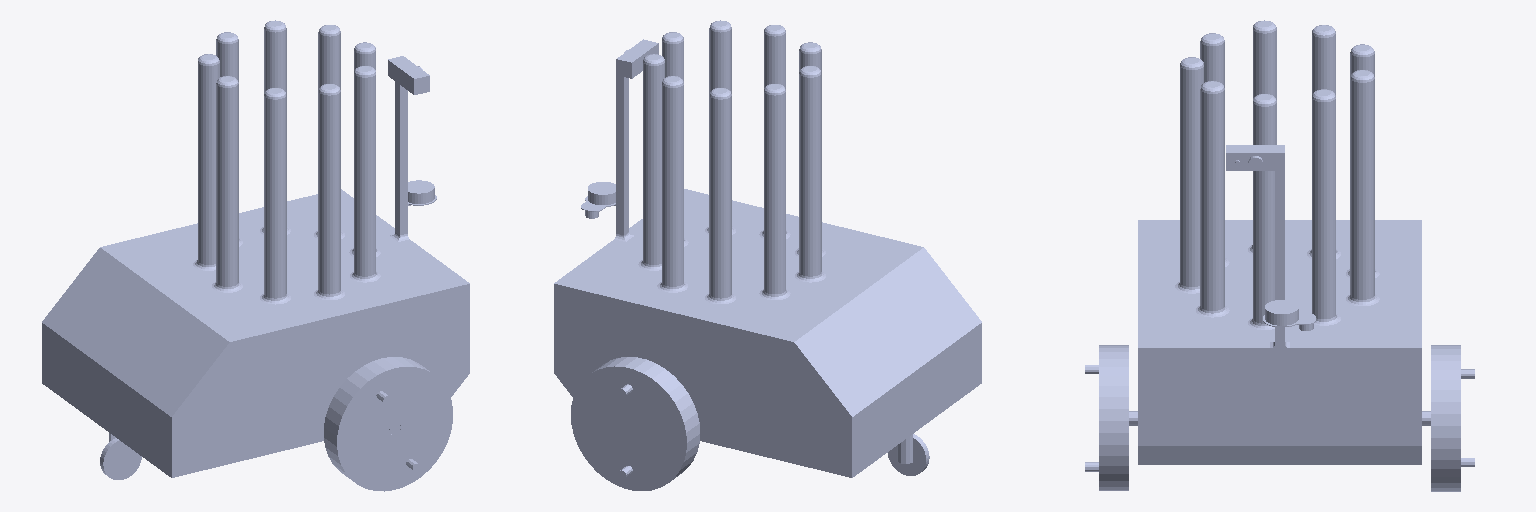
The robot description file, URDF, robot "autozuvc_urdfy":
<?xml version="1.0" encoding="utf-8"?>
<!-- This URDF was automatically created by SolidWorks to URDF Exporter! Originally created by [author] ([email redacted]) 
     Commit Version: 1.5.1-0-g916b5db  Build Version: 1.5.7152.31018
     For more information, please see http://wiki.ros.org/sw_urdf_exporter -->
<robot
  name="autozuvc_urdfy">

<gazebo>
<plugin filename="libgazebo_ros_diff_drive.so" name="differential_drive_controller">
<legacyMode>false</legacyMode>
<alwaysOn>true</alwaysOn>
<updateRate>20</updateRate>
<leftJoint>lcontinuous</leftJoint>
<rightJoint>rcontinuous</rightJoint>
<wheelSeparation>0.64</wheelSeparation>
<wheelDiameter>0.3</wheelDiameter>
<torque>0.1</torque>
<commandTopic>cmd_vel</commandTopic>
<odometryTopic>odom</odometryTopic>
<odometryFrame>odom</odometryFrame>
<robotBaseFrame>base_link</robotBaseFrame>
</plugin>
</gazebo>	

  <link
    name="base_link">
    <inertial>
      <origin
        xyz="0.017438 0.024051 -2.6499E-06"
        rpy="0 0 0" />
      <mass
        value="20" />
      <inertia
        ixx="6.1934"
        ixy="-0.57541"
        ixz="-0.0001332"
        iyy="9.5271"
        iyz="-7.7947E-05"
        izz="8.3588" />
    </inertial>
    <visual>
      <origin
        xyz="0 0 0"
        rpy="0 0 0" />
      <geometry>
        <mesh
          filename="package://autozuvc_urdfy/meshes/base_link.STL" />
      </geometry>
      <material
        name="">
        <color
          rgba="0.79216 0.81961 0.93333 1" />
      </material>
    </visual>
    <collision>
      <origin
        xyz="0 0 0"
        rpy="0 0 0" />
      <geometry>
        <mesh
          filename="package://autozuvc_urdfy/meshes/base_link.STL" />
      </geometry>
    </collision>
  </link>
  <link
    name="rwheel">
    <inertial>
      <origin
        xyz="0.030201 2.7756E-17 -1.3878E-16"
        rpy="0 0 0" />
      <mass
        value="1" />
      <inertia
        ixx="0.047898"
        ixy="5.3567E-21"
        ixz="-7.8758E-17"
        iyy="0.025154"
        iyz="1.1037E-35"
        izz="0.025342" />
    </inertial>
    <visual>
      <origin
        xyz="0 0 0"
        rpy="0 0 0" />
      <geometry>
        <mesh
          filename="package://autozuvc_urdfy/meshes/rwheel.STL" />
      </geometry>
      <material
        name="">
        <color
          rgba="0.79216 0.81961 0.93333 1" />
      </material>
    </visual>
    <collision>
      <origin
        xyz="0 0 0"
        rpy="0 0 0" />
      <geometry>
        <mesh
          filename="package://autozuvc_urdfy/meshes/rwheel.STL" />
      </geometry>
    </collision>
  </link>
  <joint
    name="rcontinuous"
    type="continuous">
    <origin
      xyz="0.144999999999999 0.309999999999999 -0.12"
      rpy="1.5707963267949 0 1.5707963267949" />
    <parent
      link="base_link" />
    <child
      link="rwheel" />
    <axis
      xyz="1 0 0" />
  </joint>
  <link
    name="lwheel">
    <inertial>
      <origin
        xyz="0.030201 -2.7756E-17 -1.1102E-16"
        rpy="0 0 0" />
      <mass
        value="1" />
      <inertia
        ixx="0.047898"
        ixy="-1.5123E-17"
        ixz="-7.8896E-17"
        iyy="0.025154"
        iyz="-8.6736E-19"
        izz="0.025342" />
    </inertial>
    <visual>
      <origin
        xyz="0 0 0"
        rpy="0 0 0" />
      <geometry>
        <mesh
          filename="package://autozuvc_urdfy/meshes/lwheel.STL" />
      </geometry>
      <material
        name="">
        <color
          rgba="0.79216 0.81961 0.93333 1" />
      </material>
    </visual>
    <collision>
      <origin
        xyz="0 0 0"
        rpy="0 0 0" />
      <geometry>
        <mesh
          filename="package://autozuvc_urdfy/meshes/lwheel.STL" />
      </geometry>
    </collision>
  </link>
  <joint
    name="lcontinuous"
    type="continuous">
    <origin
      xyz="0.145000000000001 -0.309999999999998 -0.12"
      rpy="1.96389113722142 0 -1.5707963267949" />
    <parent
      link="base_link" />
    <child
      link="lwheel" />
    <axis
      xyz="1 0 0" />
  </joint>
  <link
    name="cwheel">
    <inertial>
      <origin
        xyz="-0.0075 0 0"
        rpy="0 0 0" />
      <mass
        value="5" />
      <inertia
        ixx="0.00014725"
        ixy="-8.6228E-38"
        ixz="-2.5372E-19"
        iyy="7.5811E-05"
        iyz="1.1248E-40"
        izz="7.5811E-05" />
    </inertial>
    <visual>
      <origin
        xyz="0 0 0"
        rpy="0 0 0" />
      <geometry>
        <mesh
          filename="package://autozuvc_urdfy/meshes/cwheel.STL" />
      </geometry>
      <material
        name="">
        <color
          rgba="0.79216 0.81961 0.93333 1" />
      </material>
    </visual>
    <collision>
      <origin
        xyz="0 0 0"
        rpy="0 0 0" />
      <geometry>
        <mesh
          filename="package://autozuvc_urdfy/meshes/cwheel.STL" />
      </geometry>
    </collision>
  </link>
  <joint
    name="ccontinuous"
    type="continuous">
    <origin
      xyz="-0.355 -0.00500000000000095 -0.22"
      rpy="1.5707963267949 0 1.5707963267949" />
    <parent
      link="base_link" />
    <child
      link="cwheel" />
    <axis
      xyz="1 0 0" />
  </joint>
  <link
    name="lidar">
    <inertial>
      <origin
        xyz="0.0068576 0.0087923 -5.5511E-17"
        rpy="0 0 0" />
      <mass
        value="1" />
      <inertia
        ixx="5.1112E-05"
        ixy="1.6315E-05"
        ixz="1.2835E-19"
        iyy="0.00010945"
        iyz="-5.9432E-20"
        izz="8.8822E-05" />
    </inertial>
    <visual>
      <origin
        xyz="0 0 0"
        rpy="0 0 0" />
      <geometry>
        <mesh
          filename="package://autozuvc_urdfy/meshes/lidar.STL" />
      </geometry>
      <material
        name="">
        <color
          rgba="0.79216 0.81961 0.93333 1" />
      </material>
    </visual>
    <collision>
      <origin
        xyz="0 0 0"
        rpy="0 0 0" />
      <geometry>
        <mesh
          filename="package://autozuvc_urdfy/meshes/lidar.STL" />
      </geometry>
    </collision>
  </link>
  <joint
    name="lfixed"
    type="fixed">
    <origin
      xyz="0.4225 0.00391941090707312 0.2345"
      rpy="1.5707963267949 0 1.5707963267949" />
    <parent
      link="base_link" />
    <child
      link="lidar" />
    <axis
      xyz="0 0 0" />
  </joint>
  <link
    name="camera">
    <inertial>
      <origin
        xyz="-7.1444E-05 0 0.00093026"
        rpy="0 0 0" />
      <mass
        value="1" />
      <inertia
        ixx="5.6104E-05"
        ixy="7.0095E-21"
        ixz="3.0738E-07"
        iyy="0.00026142"
        iyz="-1.5793E-38"
        izz="0.00025732" />
    </inertial>
    <visual>
      <origin
        xyz="0 0 0"
        rpy="0 0 0" />
      <geometry>
        <mesh
          filename="package://autozuvc_urdfy/meshes/camera.STL" />
      </geometry>
      <material
        name="">
        <color
          rgba="0.79216 0.81961 0.93333 1" />
      </material>
    </visual>
    <collision>
      <origin
        xyz="0 0 0"
        rpy="0 0 0" />
      <geometry>
        <mesh
          filename="package://autozuvc_urdfy/meshes/camera.STL" />
      </geometry>
    </collision>
  </link>
  <joint
    name="cfixed"
    type="fixed">
    <origin
      xyz="0.365 -0.0499999999999987 0.57"
      rpy="1.5707963267949 0 1.5707963267949" />
    <parent
      link="base_link" />
    <child
      link="camera" />
    <axis
      xyz="0 0 0" />
  </joint>
</robot>

--- What the picture shows (computed from the rendered views, not written in the file) ---
3 views of the same robot in one strip: view 1: azimuth 30°, elevation 25°; view 2: azimuth 150°, elevation 25°; view 3: azimuth 270°, elevation 25° (orthographic).
Model autozuvc_urdfy with 6 links and 5 joints (3 continuous, 2 fixed), rooted at base_link, posed every joint at zero.
Links seen in each view (by area): view 1: base_link, lwheel, cwheel, camera, lidar; view 2: base_link, rwheel, camera, lidar, cwheel; view 3: base_link, rwheel, lwheel, camera, lidar.
Boxes of the visible links, x1,y1,x2,y2 form: base_link: (42, 20, 469, 477); lwheel: (324, 357, 452, 491); cwheel: (100, 438, 141, 479); camera: (388, 56, 429, 94); lidar: (408, 180, 436, 205); base_link: (554, 20, 981, 477); rwheel: (571, 357, 699, 490); camera: (616, 39, 658, 78); lidar: (581, 182, 615, 218); cwheel: (888, 434, 929, 475); base_link: (1129, 20, 1430, 464); rwheel: (1431, 345, 1474, 491); lwheel: (1085, 345, 1128, 490); camera: (1226, 145, 1284, 170); lidar: (1263, 300, 1315, 330).
Bounding box of the posed robot: 0.865 × 0.8 × 0.93 m (x, y, z).
6 mesh visuals loaded from 6 distinct referenced files (6 binary STL).